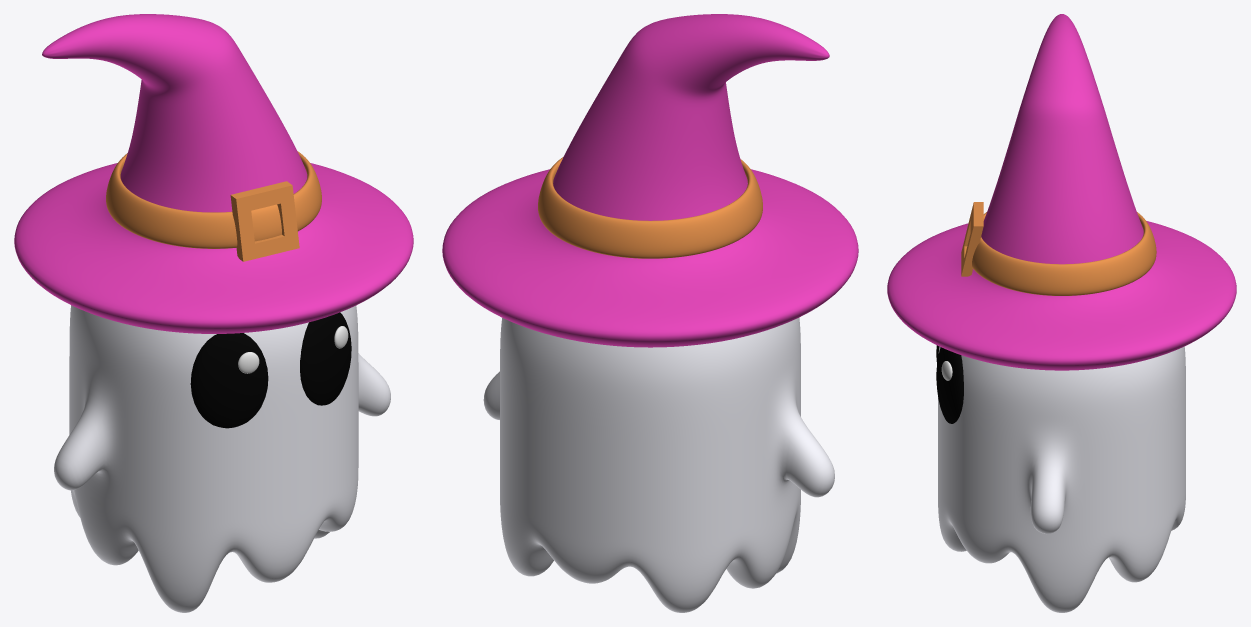
Rendered from Enemigo1.fbx.
The picture shows the model from 3 angles, left to right: view 1: azimuth 30°, elevation 25°; view 2: azimuth 150°, elevation 25°; view 3: azimuth 270°, elevation 25°; orthographic projection. The views are drawn at different scales.
Parts seen in each view (by area): view 1: hat, ghost, eyes, Cylinder.001, Plane; view 2: hat, ghost, Cylinder.001; view 3: hat, ghost, Cylinder.001, eyes, Plane.
Part boxes in pixels (box(x1,y1,x2,y2)): hat: box(14, 14, 413, 333); ghost: box(54, 305, 390, 612); eyes: box(190, 312, 351, 428); Cylinder.001: box(106, 151, 321, 248); Plane: box(230, 181, 299, 261); hat: box(442, 14, 858, 347); ghost: box(483, 318, 834, 612); Cylinder.001: box(538, 157, 762, 258); hat: box(887, 14, 1236, 370); ghost: box(938, 346, 1185, 612); Cylinder.001: box(972, 212, 1156, 295); eyes: box(936, 345, 963, 423); Plane: box(961, 202, 983, 276).
Bounding box in the file's own units: 235 × 369 × 235.
